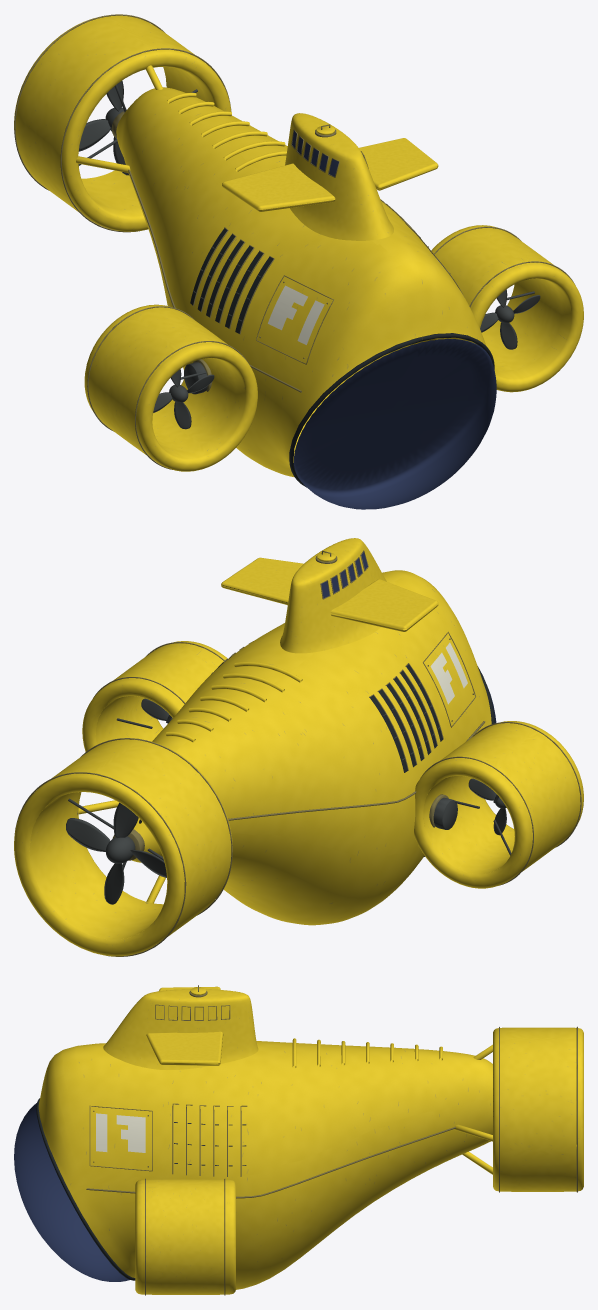
File: submarine.glb
3 views of the same model, one above another, from view 1: azimuth 30°, elevation 25°; view 2: azimuth 150°, elevation 25°; view 3: azimuth 270°, elevation 25° (orthographic). The views are drawn at different scales.
Parts seen in each view (by area): view 1: Hull_Surface, LeftPod_Surface, RightPod_Surface, RearPropeller_Surface, LeftPropeller_Surface, RightPropeller_Surface; view 2: Hull_Surface, LeftPod_Surface, RightPod_Surface, RearPropeller_Surface, LeftPropeller_Surface; view 3: Hull_Surface, RightPod_Surface.
Part boxes in pixels (x1=…): Hull_Surface: x1=14, y1=14, x2=496, y2=509; LeftPod_Surface: x1=84, y1=304, x2=257, y2=471; RightPod_Surface: x1=431, y1=225, x2=583, y2=392; RearPropeller_Surface: x1=78, y1=81, x2=129, y2=175; LeftPropeller_Surface: x1=153, y1=369, x2=214, y2=429; RightPropeller_Surface: x1=480, y1=289, x2=540, y2=349; Hull_Surface: x1=14, y1=538, x2=496, y2=956; LeftPod_Surface: x1=414, y1=721, x2=583, y2=888; RightPod_Surface: x1=82, y1=641, x2=227, y2=751; RearPropeller_Surface: x1=66, y1=802, x2=166, y2=904; LeftPropeller_Surface: x1=468, y1=778, x2=506, y2=835; Hull_Surface: x1=14, y1=985, x2=583, y2=1289; RightPod_Surface: x1=135, y1=1178, x2=235, y2=1295.
Size of the model in its own units: 0.7627 by 0.5739 by 1.
6 materials, 1 textured.
